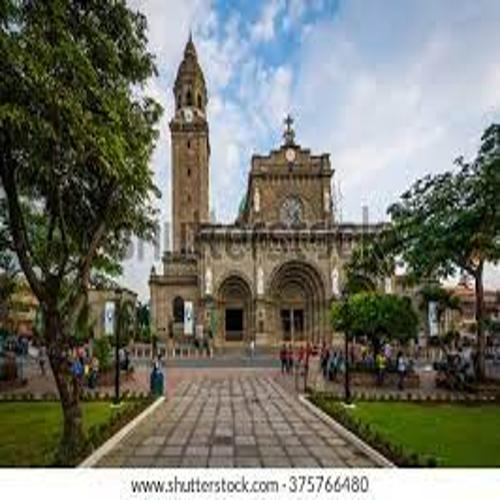Manila Cathedral Church: (143, 29, 402, 357)
